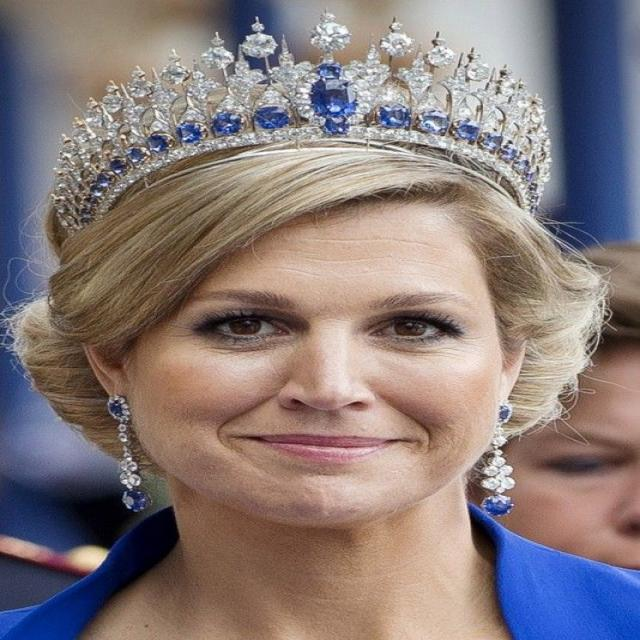Earring: (80, 370, 162, 528), (477, 375, 542, 546)
